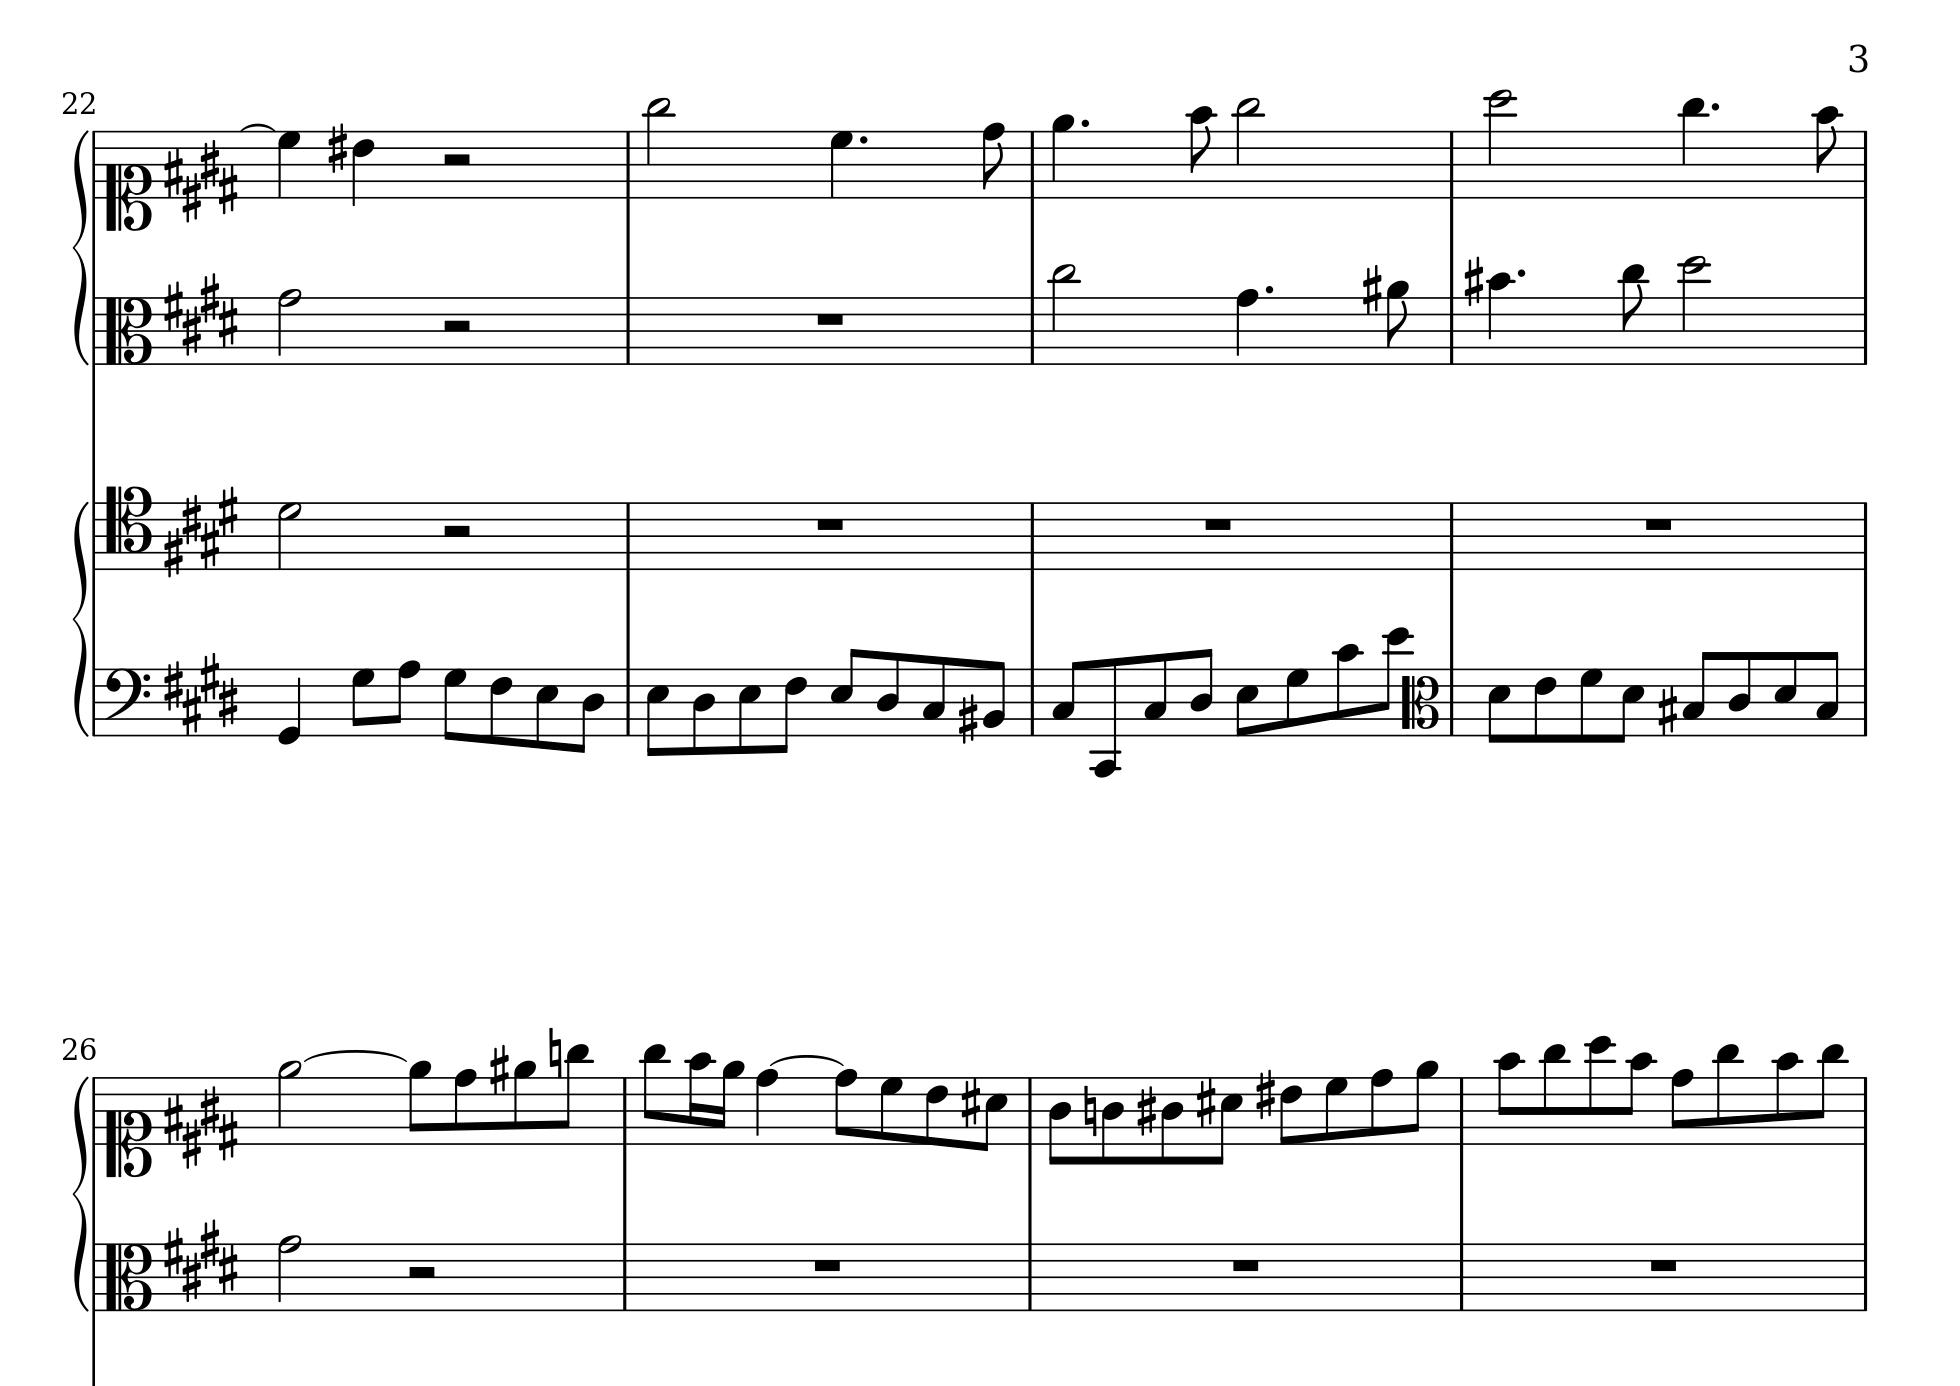16_10: (685, 1050, 714, 1146)
16_5: (979, 1075, 1009, 1150)
16_9: (717, 1057, 745, 1146)
2: (58, 1035, 79, 1062), (60, 90, 79, 115), (78, 88, 96, 115)
2_11: (1233, 96, 1263, 201), (643, 96, 673, 199), (1050, 262, 1078, 366)
2_12: (1485, 87, 1516, 202), (1680, 253, 1710, 367)
2_7: (276, 496, 303, 567)
2_8: (276, 1231, 304, 1312), (276, 286, 301, 366)
2_9: (276, 1057, 303, 1147)
3: (1848, 40, 1870, 73)
4_0: (277, 664, 304, 745)
4_10: (1485, 271, 1515, 369)
4_11: (1680, 94, 1707, 199)
4_6: (351, 127, 376, 207)
4_7: (274, 130, 301, 199), (829, 129, 855, 199)
4_8: (1234, 286, 1260, 367), (754, 1066, 778, 1146)
4_9: (1051, 111, 1077, 199)
6: (79, 1033, 97, 1062)
8_-4: (1092, 655, 1120, 778)
8_10: (1494, 1050, 1525, 1146), (1626, 1050, 1656, 1147), (1773, 1051, 1803, 1146), (1333, 642, 1362, 736), (1815, 103, 1842, 201), (1189, 103, 1216, 199)
8_11: (559, 1041, 592, 1146), (1816, 1041, 1848, 1146), (1540, 1041, 1570, 1147), (1713, 1041, 1743, 1147), (640, 1041, 670, 1144), (1620, 262, 1648, 367)
8_12: (1377, 625, 1413, 738), (1585, 1033, 1615, 1147)
8_2: (984, 658, 1009, 736)
8_3: (1683, 649, 1719, 736), (1143, 651, 1170, 739), (1051, 658, 1081, 736), (921, 654, 948, 738), (1818, 649, 1842, 736)
8_4: (576, 666, 604, 754), (1048, 1074, 1075, 1165), (874, 649, 901, 738), (1728, 649, 1755, 738), (1189, 646, 1215, 739), (1101, 1072, 1125, 1165), (1161, 1072, 1185, 1165), (691, 666, 715, 757)
8_5: (1210, 1072, 1245, 1165), (829, 646, 861, 738), (1614, 666, 1647, 745), (643, 664, 669, 759), (1773, 649, 1800, 736), (532, 666, 559, 751), (736, 666, 762, 756), (1486, 666, 1513, 747), (1234, 666, 1260, 739)
8_6: (777, 666, 808, 754), (487, 666, 513, 747), (1533, 666, 1558, 745), (1279, 1074, 1306, 1147), (925, 1074, 949, 1147)
8_7: (1578, 667, 1605, 745), (879, 1075, 907, 1144), (1284, 666, 1311, 738), (1323, 1075, 1350, 1146), (351, 666, 376, 738), (442, 667, 466, 742)
8_8: (387, 658, 420, 739), (981, 120, 1008, 199), (834, 1066, 861, 1144), (453, 1066, 478, 1147), (1669, 1066, 1695, 1147), (1369, 1066, 1395, 1146)
8_9: (1410, 1059, 1441, 1146), (1384, 279, 1411, 367), (406, 1057, 432, 1147), (511, 1059, 537, 1147)
Brace: (70, 496, 90, 739), (70, 124, 90, 364), (70, 1077, 90, 1309)
Cclef: (105, 483, 154, 568), (103, 1242, 154, 1314), (103, 295, 153, 367), (1401, 666, 1441, 736)
E_S: (160, 486, 241, 576), (162, 136, 241, 223), (162, 649, 240, 736), (162, 1080, 238, 1168), (163, 1216, 238, 1303), (163, 271, 238, 357)
Fclef: (105, 666, 151, 739)
Natural: (546, 1026, 562, 1081), (1083, 1081, 1098, 1137)
Rests1: (1227, 1249, 1266, 1275), (808, 1252, 846, 1276), (1645, 1252, 1683, 1275), (811, 513, 847, 532), (1200, 513, 1236, 532), (1641, 513, 1677, 532), (813, 307, 847, 327)
Rests2: (439, 148, 474, 171), (439, 520, 475, 541), (403, 1261, 439, 1281), (439, 316, 474, 336)
Sharp: (1461, 253, 1485, 310), (487, 1039, 510, 1095), (327, 118, 349, 174), (957, 691, 979, 745), (1255, 1066, 1278, 1117), (1362, 262, 1383, 315), (1657, 684, 1678, 736), (961, 1075, 981, 1126), (1197, 1075, 1216, 1126), (1138, 1084, 1156, 1135)
Single_barline: (619, 667, 637, 735), (1021, 1074, 1038, 1144), (1444, 129, 1461, 198), (1443, 295, 1459, 364), (619, 501, 636, 570), (616, 1075, 633, 1144), (1021, 1242, 1038, 1311), (619, 130, 636, 198), (1026, 130, 1042, 198), (88, 1240, 103, 1312), (1857, 129, 1872, 199), (1455, 1074, 1470, 1144), (616, 1240, 631, 1311), (1857, 1240, 1872, 1311), (619, 295, 634, 364), (88, 501, 103, 570), (1444, 501, 1459, 570), (1857, 667, 1872, 736), (1026, 297, 1041, 364), (1444, 667, 1459, 735), (87, 1077, 102, 1144), (1858, 499, 1872, 571), (1026, 664, 1039, 736), (1857, 295, 1870, 366), (88, 295, 102, 366), (1026, 501, 1039, 571), (1858, 1074, 1872, 1144), (88, 667, 102, 736), (1455, 1242, 1468, 1311), (88, 130, 102, 198)
Slur: (303, 1048, 406, 1062), (766, 1053, 846, 1066), (240, 121, 276, 133)
Soprano_Cclef: (103, 1074, 154, 1180), (103, 127, 151, 232)
dot: (1515, 264, 1531, 283), (1263, 280, 1278, 297), (1080, 115, 1093, 133), (1708, 99, 1722, 112), (856, 132, 868, 145)
